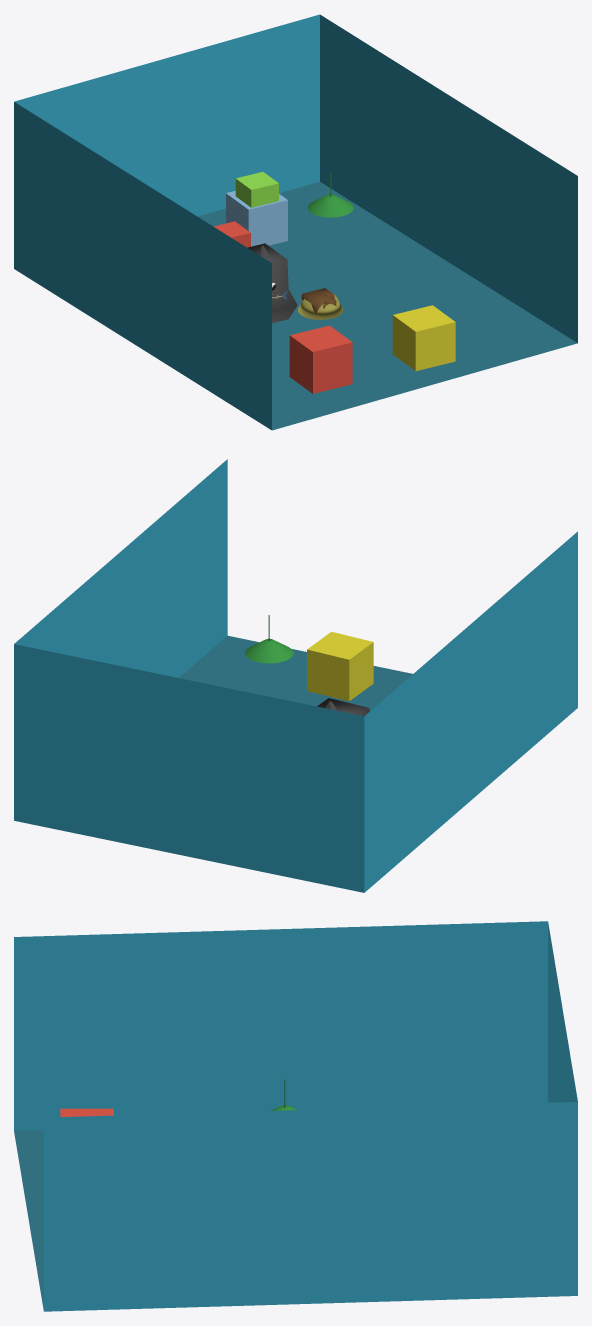
Rendered from cat_v1.glb.
The picture shows the model from 3 angles, top to bottom: view 1: azimuth 30°, elevation 25°; view 2: azimuth 150°, elevation 25°; view 3: azimuth 270°, elevation 25°; orthographic projection. The views are drawn at different scales.
Visible parts, largest first — view 1: 立方体, 立方体.001, 立方体.002, 立方体.003, body, 立方体.004, shade, hoodbowl; view 2: 立方体, 立方体.002, shade; view 3: 立方体.
Boxes of the visible parts, x1,y1,x2,y2 form: 立方体: (14, 14, 577, 430); 立方体.001: (289, 325, 352, 393); 立方体.002: (392, 305, 455, 370); 立方体.003: (226, 191, 287, 246); body: (247, 243, 297, 323); 立方体.004: (235, 172, 278, 207); shade: (307, 194, 353, 217); hoodbowl: (298, 293, 343, 319); 立方体: (14, 459, 577, 892); 立方体.002: (307, 631, 373, 701); shade: (245, 639, 293, 663); 立方体: (14, 921, 577, 1311).
Bounding box in the file's own units: 17.36 × 8.12 × 21.07.
